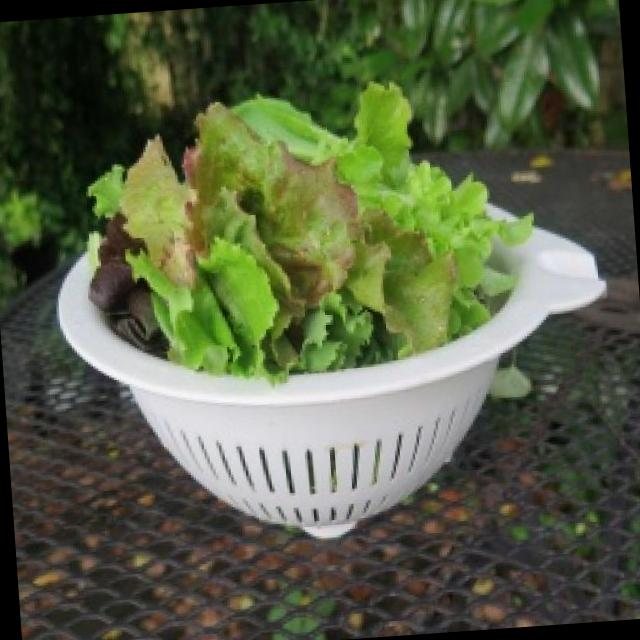Lettuce-Ready-to-Harvest: (91, 83, 531, 377)
